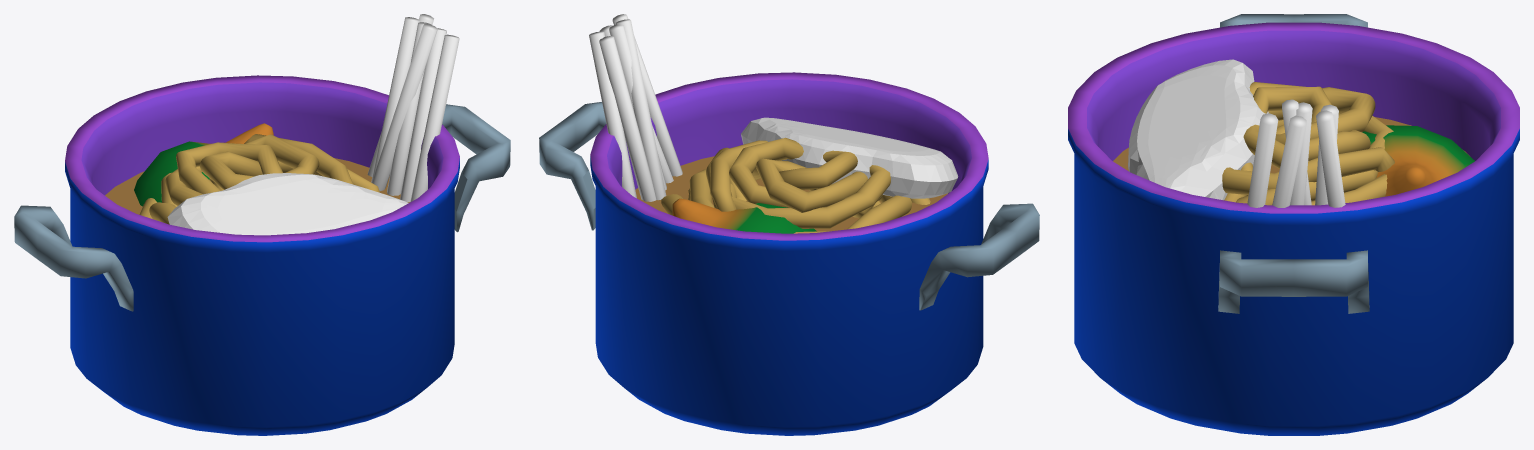
File: ChickenNoodleSoupPot.fbx
The picture shows the model from 3 angles, left to right: view 1: azimuth 30°, elevation 25°; view 2: azimuth 150°, elevation 25°; view 3: azimuth 270°, elevation 25°; orthographic projection. The views are drawn at different scales.
Visible parts, largest first — view 1: Pot, Chicken, BoxNoodles, Handles, EggNoodles, Onion, Water; view 2: Pot, EggNoodles, BoxNoodles, Handles, Chicken, Onion, Water; view 3: Pot, Chicken, EggNoodles, Handles, BoxNoodles, Onion, Water.
Boxes of the visible parts, bbox=[...] form: Pot: bbox=[65, 75, 459, 435]; Chicken: bbox=[167, 173, 408, 235]; BoxNoodles: bbox=[367, 14, 459, 202]; Handles: bbox=[14, 104, 510, 311]; EggNoodles: bbox=[139, 134, 379, 224]; Onion: bbox=[134, 123, 273, 206]; Water: bbox=[105, 158, 409, 214]; Pot: bbox=[590, 72, 988, 435]; EggNoodles: bbox=[661, 137, 930, 233]; BoxNoodles: bbox=[589, 14, 682, 201]; Handles: bbox=[539, 102, 1039, 310]; Chicken: bbox=[741, 117, 958, 198]; Onion: bbox=[672, 198, 816, 233]; Water: bbox=[635, 156, 947, 231]; Pot: bbox=[1068, 22, 1519, 435]; Chicken: bbox=[1128, 59, 1268, 199]; EggNoodles: bbox=[1222, 82, 1394, 205]; Handles: bbox=[1218, 14, 1369, 313]; BoxNoodles: bbox=[1247, 99, 1345, 207]; Onion: bbox=[1362, 125, 1474, 196]; Water: bbox=[1113, 117, 1469, 195].
Size of the model in its own units: 83.38 by 52.66 by 62.94.
